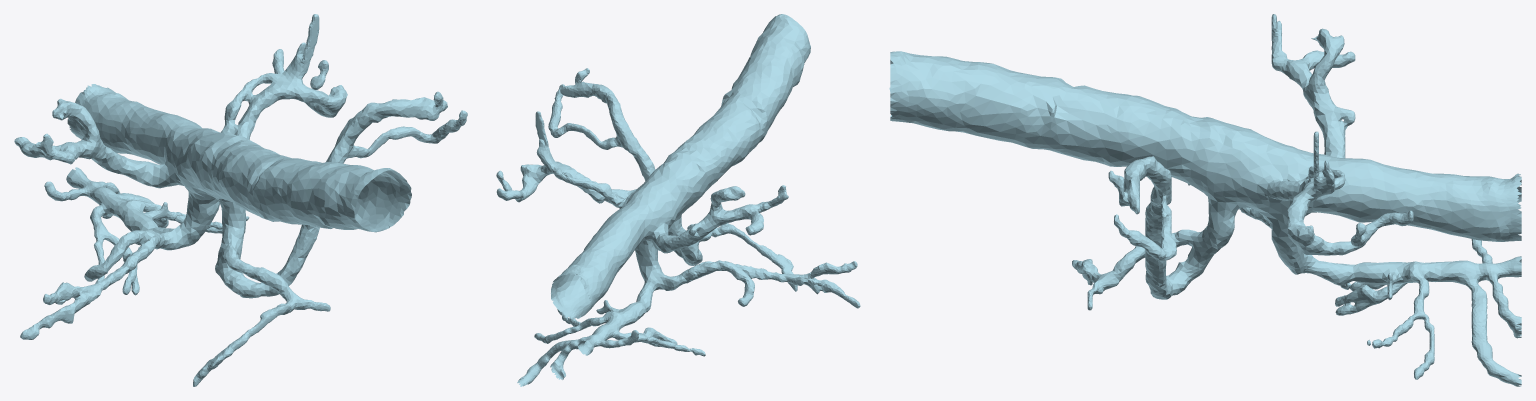
The model's file is artery.obj.
3 views of the same model, side by side, from view 1: azimuth 30°, elevation 25°; view 2: azimuth 150°, elevation 25°; view 3: azimuth 270°, elevation 25° (orthographic). The views are drawn at different scales.
Visible parts, largest first — view 1: grp1; view 2: grp1; view 3: grp1.
Part boxes in pixels (bbox=[...]): grp1: bbox=[14, 14, 467, 386]; grp1: bbox=[496, 14, 860, 386]; grp1: bbox=[889, 14, 1521, 386].
Size of the model in its own units: 163 by 103 by 192.
